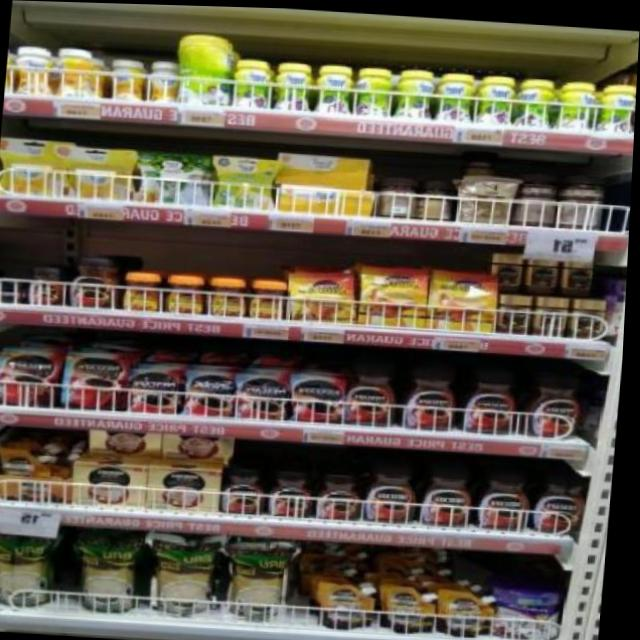Coffee: (430, 266, 499, 330), (361, 263, 430, 325), (63, 348, 132, 410), (404, 359, 465, 428), (528, 367, 589, 435), (0, 345, 67, 406), (466, 363, 523, 431), (345, 356, 400, 424), (423, 461, 479, 523), (536, 469, 592, 529), (291, 269, 358, 319), (480, 465, 534, 526), (368, 458, 422, 519), (72, 253, 122, 307), (290, 371, 346, 419), (128, 365, 184, 413), (184, 367, 238, 415), (318, 468, 368, 518), (239, 370, 291, 417), (271, 465, 318, 515), (224, 462, 268, 512), (123, 270, 164, 310), (164, 273, 206, 311), (208, 276, 249, 314), (29, 263, 67, 303), (249, 278, 288, 316), (572, 294, 609, 334), (535, 291, 571, 332), (562, 254, 598, 293), (499, 290, 532, 331), (526, 252, 559, 290), (494, 249, 525, 288)
